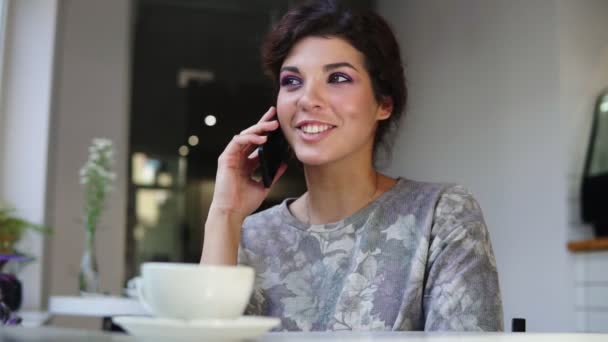phone: (218, 97, 290, 187)
talk: (193, 57, 378, 209)
